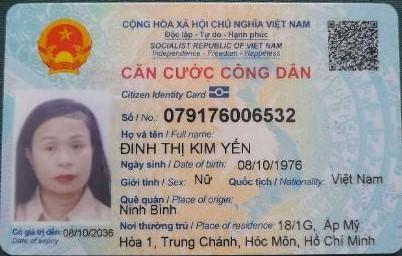ID: (160, 101, 298, 126)
birth: (232, 155, 306, 173)
name: (117, 138, 257, 158)
place: (117, 202, 179, 219)
residence: (115, 232, 377, 252), (275, 215, 365, 234)
